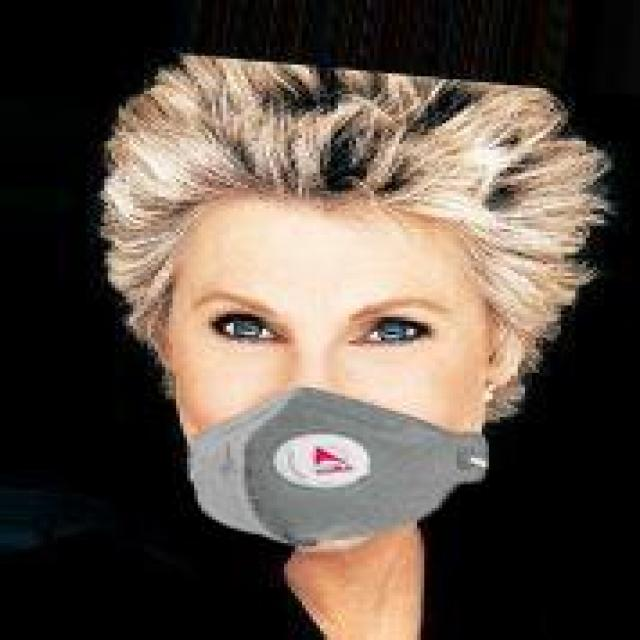mask: (108, 88, 575, 570)
